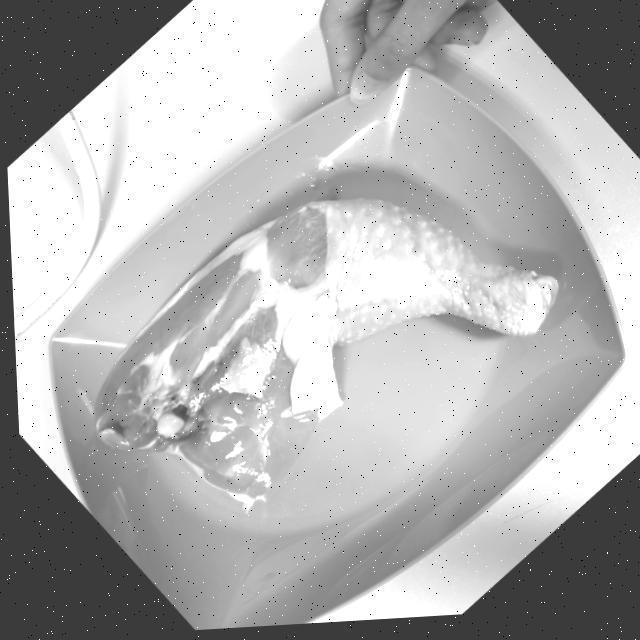quater: (95, 199, 558, 473)
